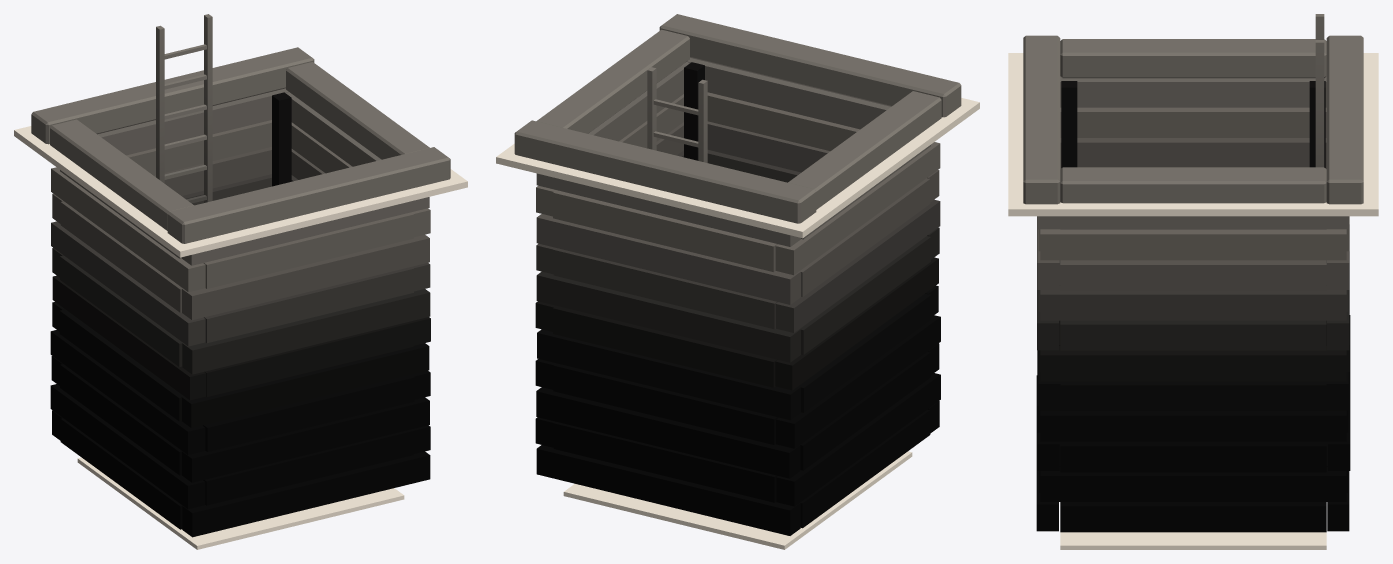
Rendered from SM_VKI_Pit_Shaft_300x300.fbx.
3 renders of one model, left to right at view 1: azimuth 30°, elevation 25°; view 2: azimuth 150°, elevation 25°; view 3: azimuth 270°, elevation 25°, orthographic. The views are drawn at different scales.
Parts seen in each view (by area): view 1: SM_VKI_Pit_Shaft_300x300.001; view 2: SM_VKI_Pit_Shaft_300x300.001; view 3: SM_VKI_Pit_Shaft_300x300.001.
Boxes of the visible parts, x1,y1,x2,y2 form: SM_VKI_Pit_Shaft_300x300.001: (14, 14, 467, 549); SM_VKI_Pit_Shaft_300x300.001: (496, 14, 979, 549); SM_VKI_Pit_Shaft_300x300.001: (1008, 14, 1378, 549).
Size of the model in its own units: 3 by 4.16 by 3.
